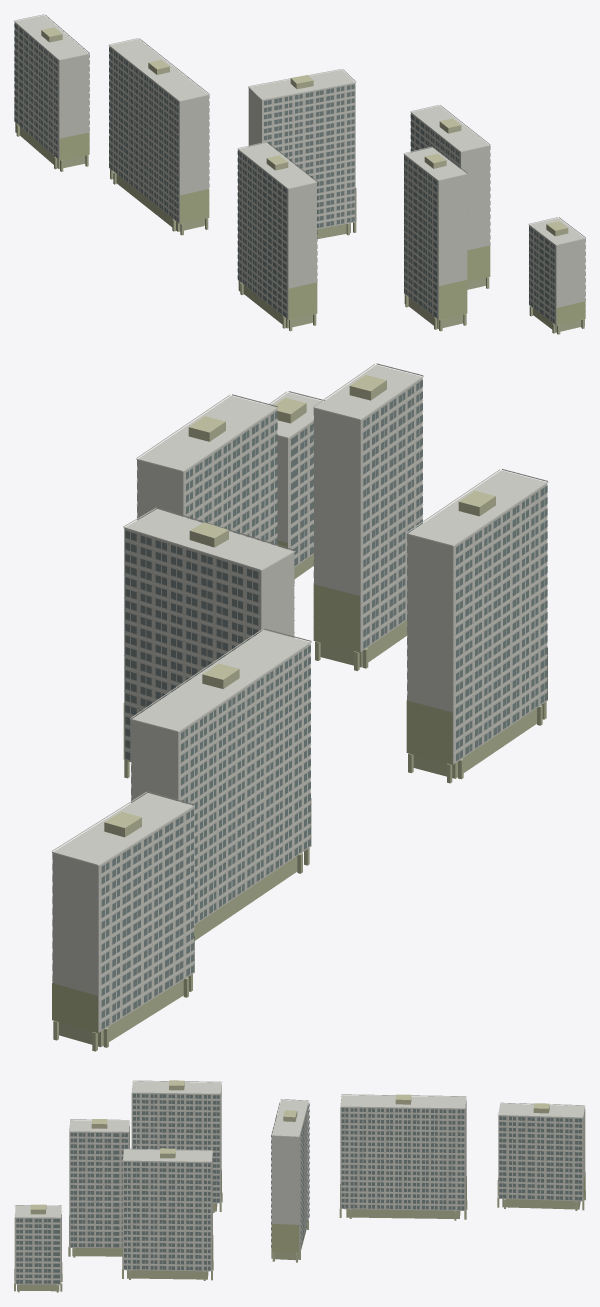
Rendered from representative-a13610202.glb.
The picture shows the model from 3 angles, top to bottom: view 1: azimuth 30°, elevation 25°; view 2: azimuth 150°, elevation 25°; view 3: azimuth 270°, elevation 25°; orthographic projection. The views are drawn at different scales.
Visible parts, largest first — view 1: A13610202_wall001, A13610202_glass001, A13610202_trim001, A13610202_accent001, A13610202_base001, A13610202_roof001; view 2: A13610202_wall001, A13610202_glass001, A13610202_trim001, A13610202_base001, A13610202_accent001, A13610202_roof001; view 3: A13610202_wall001, A13610202_glass001, A13610202_trim001, A13610202_base001, A13610202_roof001, A13610202_accent001.
Part boxes in pixels (<box>): A13610202_wall001: <box>14,15,585,325</box>; A13610202_glass001: <box>14,18,585,323</box>; A13610202_trim001: <box>14,14,585,321</box>; A13610202_accent001: <box>14,101,585,325</box>; A13610202_base001: <box>15,123,584,334</box>; A13610202_roof001: <box>41,27,568,236</box>; A13610202_wall001: <box>52,365,547,1032</box>; A13610202_glass001: <box>52,380,547,1029</box>; A13610202_trim001: <box>51,363,548,1027</box>; A13610202_base001: <box>53,554,546,1051</box>; A13610202_accent001: <box>52,540,547,1032</box>; A13610202_roof001: <box>104,375,495,837</box>; A13610202_wall001: <box>14,1081,585,1284</box>; A13610202_glass001: <box>16,1094,581,1283</box>; A13610202_trim001: <box>14,1080,584,1283</box>; A13610202_base001: <box>14,1190,585,1292</box>; A13610202_roof001: <box>30,1080,549,1214</box>; A13610202_accent001: <box>14,1170,585,1283</box>.
Bounding box in the file's own units: 89.03 × 56 × 223.
